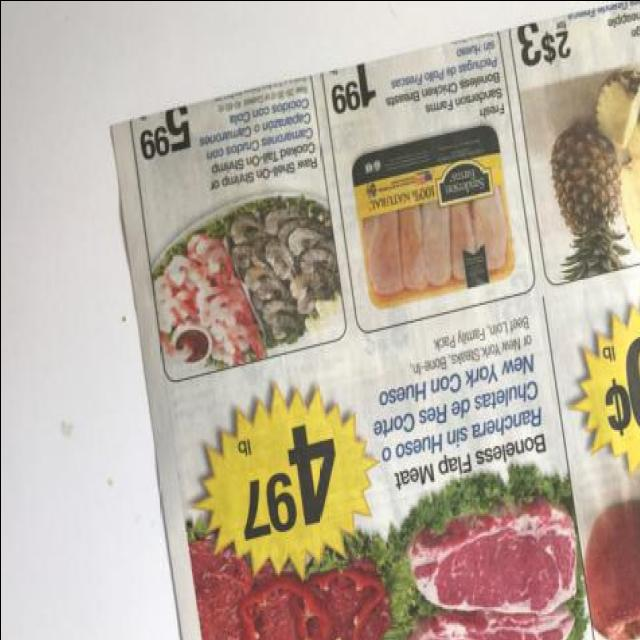kertas: (103, 0, 640, 640)
